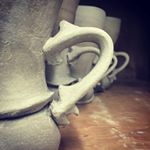cups: (2, 1, 116, 150)
